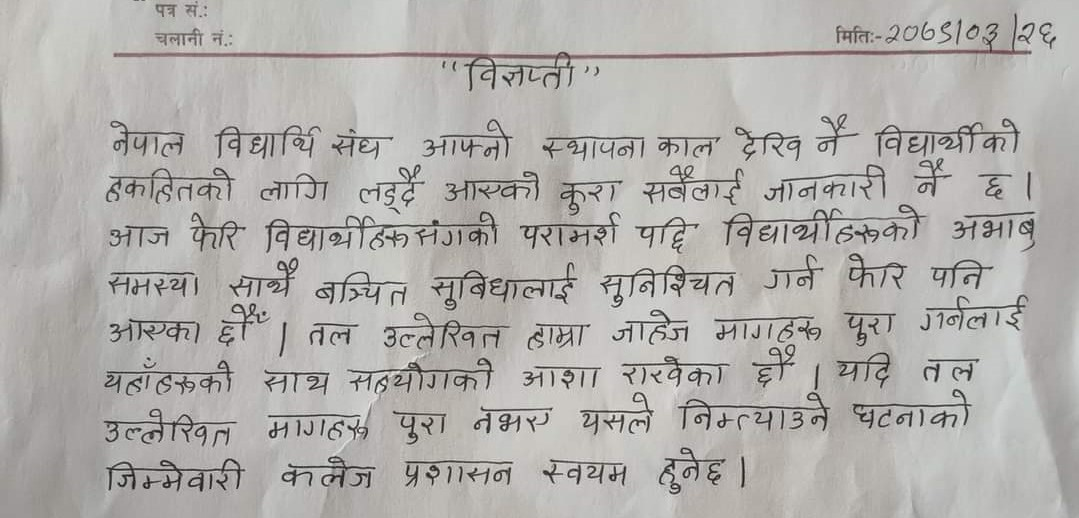text: (260, 209, 503, 256), (719, 203, 923, 248), (428, 259, 581, 310), (679, 391, 831, 438), (598, 262, 738, 310), (883, 15, 1063, 52), (873, 115, 1025, 158), (103, 455, 248, 499), (344, 357, 499, 397), (99, 407, 235, 451), (102, 165, 236, 209), (102, 356, 237, 399), (763, 162, 896, 203), (464, 52, 581, 96), (917, 293, 1034, 336), (848, 390, 977, 429), (418, 117, 518, 163), (379, 315, 505, 351), (214, 122, 324, 163), (639, 167, 748, 207), (520, 211, 625, 252), (278, 455, 380, 497), (263, 410, 374, 448), (313, 269, 413, 310), (397, 458, 517, 491), (709, 310, 825, 344), (441, 168, 544, 206), (949, 211, 1042, 253), (577, 389, 656, 438), (102, 267, 205, 304), (621, 353, 729, 388), (104, 118, 189, 162), (538, 131, 649, 163), (656, 446, 727, 496), (608, 308, 694, 349), (225, 258, 298, 303), (105, 317, 202, 350), (355, 166, 422, 213), (469, 405, 556, 440), (540, 456, 632, 489), (731, 125, 805, 163), (633, 213, 696, 257), (182, 207, 242, 253), (841, 252, 908, 293), (215, 302, 273, 349), (256, 172, 336, 206), (554, 176, 622, 215), (833, 351, 895, 392), (261, 366, 335, 400), (389, 407, 449, 448), (517, 320, 592, 352), (757, 253, 820, 291), (518, 363, 603, 391), (928, 256, 992, 293), (749, 344, 800, 389), (810, 108, 855, 157), (841, 309, 894, 349), (103, 224, 172, 253), (919, 355, 982, 386), (652, 132, 720, 160), (331, 128, 386, 161), (913, 157, 949, 204), (305, 319, 361, 349), (975, 170, 1014, 201)
